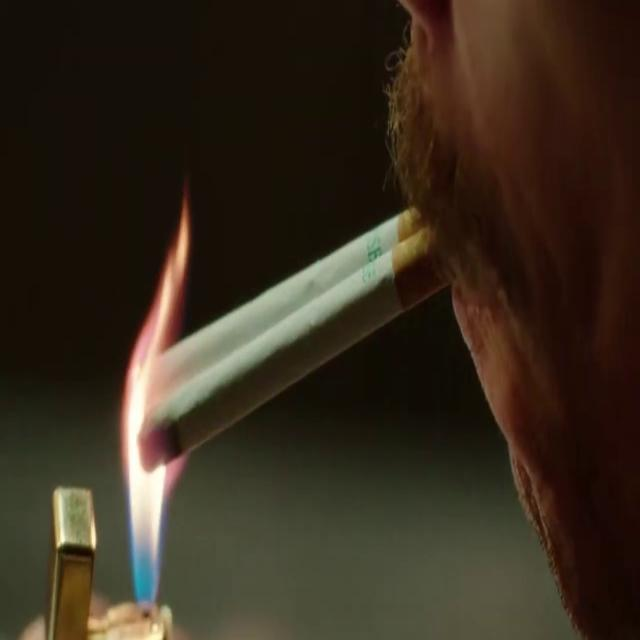Smooking: (124, 188, 458, 510)
